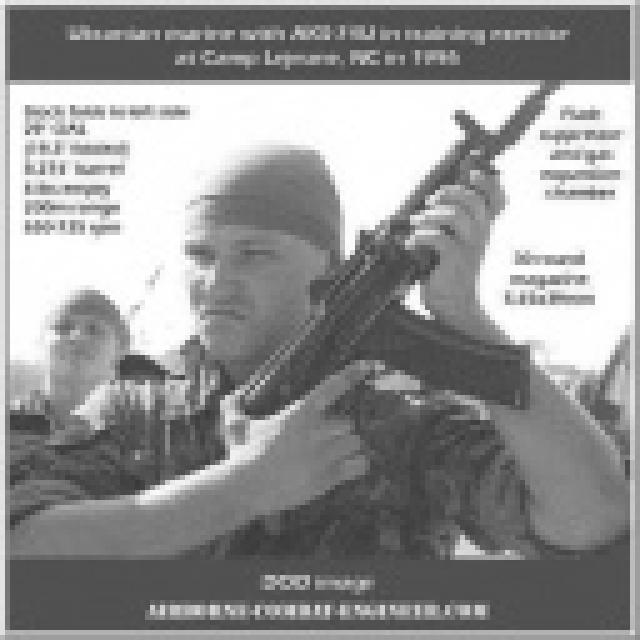Rifle: (192, 55, 600, 497)
